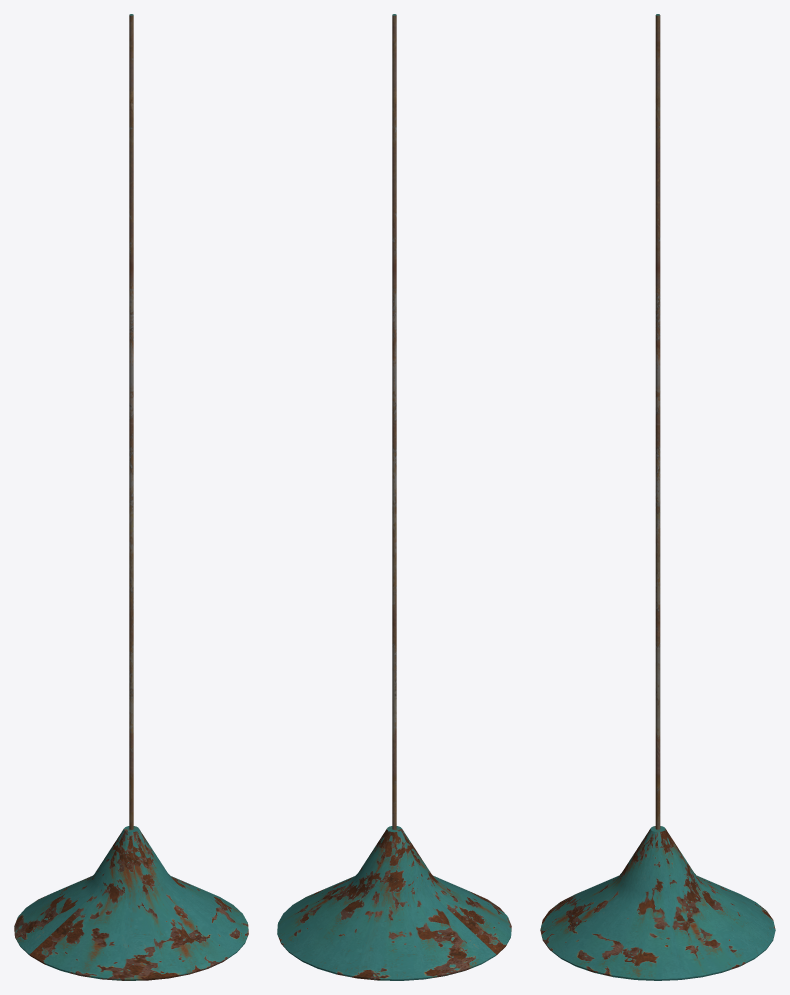
The model's file is SM_CellingLighting_01.fbx.
3 views of the same model, side by side, from view 1: azimuth 30°, elevation 25°; view 2: azimuth 150°, elevation 25°; view 3: azimuth 270°, elevation 25° (orthographic).
Visible parts, largest first — view 1: SM_CellingLighting_01_01; view 2: SM_CellingLighting_01_01; view 3: SM_CellingLighting_01_01.
Part boxes in pixels (x1,y1,x2,y2): SM_CellingLighting_01_01: (14,14,248,980); SM_CellingLighting_01_01: (277,14,511,980); SM_CellingLighting_01_01: (540,14,775,980).
Size of the model in its own units: 129 by 554 by 129.
